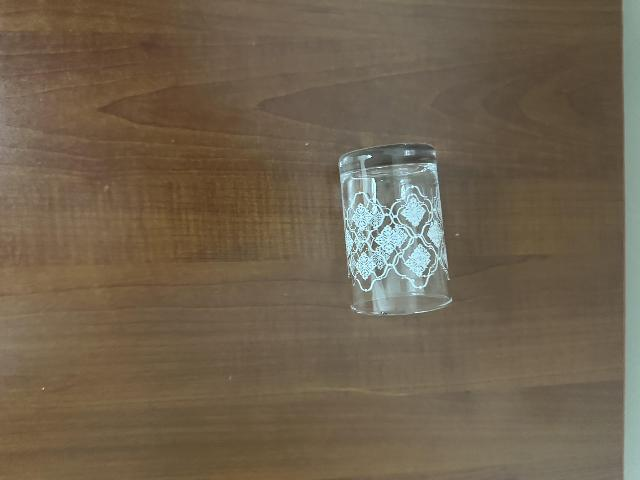Cam: (338, 142, 453, 323)
